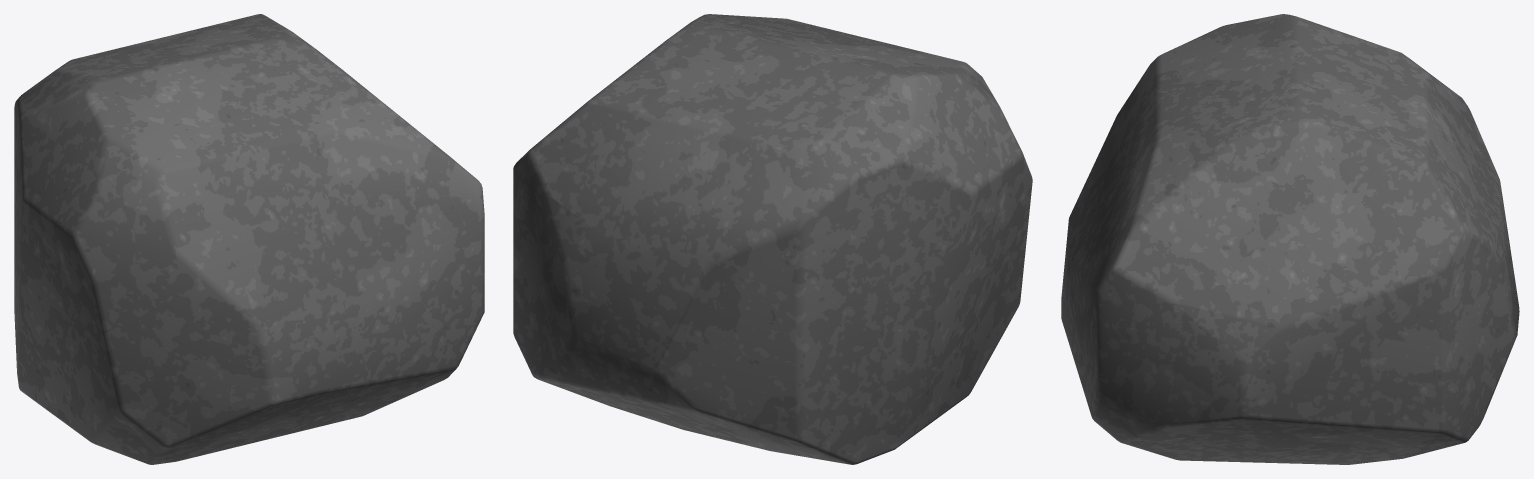
The model's file is rockPosterized.glb.
3 views of the same model, side by side, from view 1: azimuth 30°, elevation 25°; view 2: azimuth 150°, elevation 25°; view 3: azimuth 270°, elevation 25° (orthographic). The views are drawn at different scales.
Visible parts, largest first — view 1: Cube.001; view 2: Cube.001; view 3: Cube.001.
Boxes of the visible parts, <box> form: Cube.001: <box>14,14,484,464</box>; Cube.001: <box>513,14,1032,464</box>; Cube.001: <box>1061,14,1519,464</box>.
Size of the model in its own units: 1.96 by 1.61 by 1.87.
Materials: 1 (1 with a texture image).
